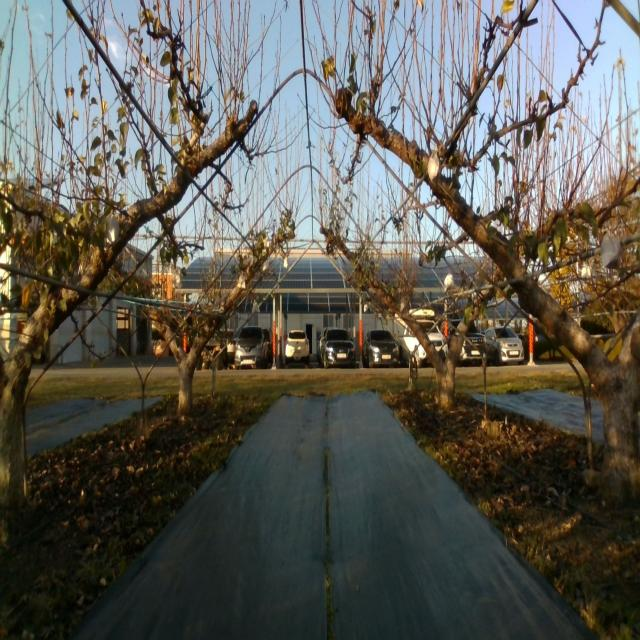pearbags: (600, 232, 621, 272), (428, 153, 440, 185), (108, 213, 120, 244), (173, 268, 183, 289), (444, 272, 454, 293)
